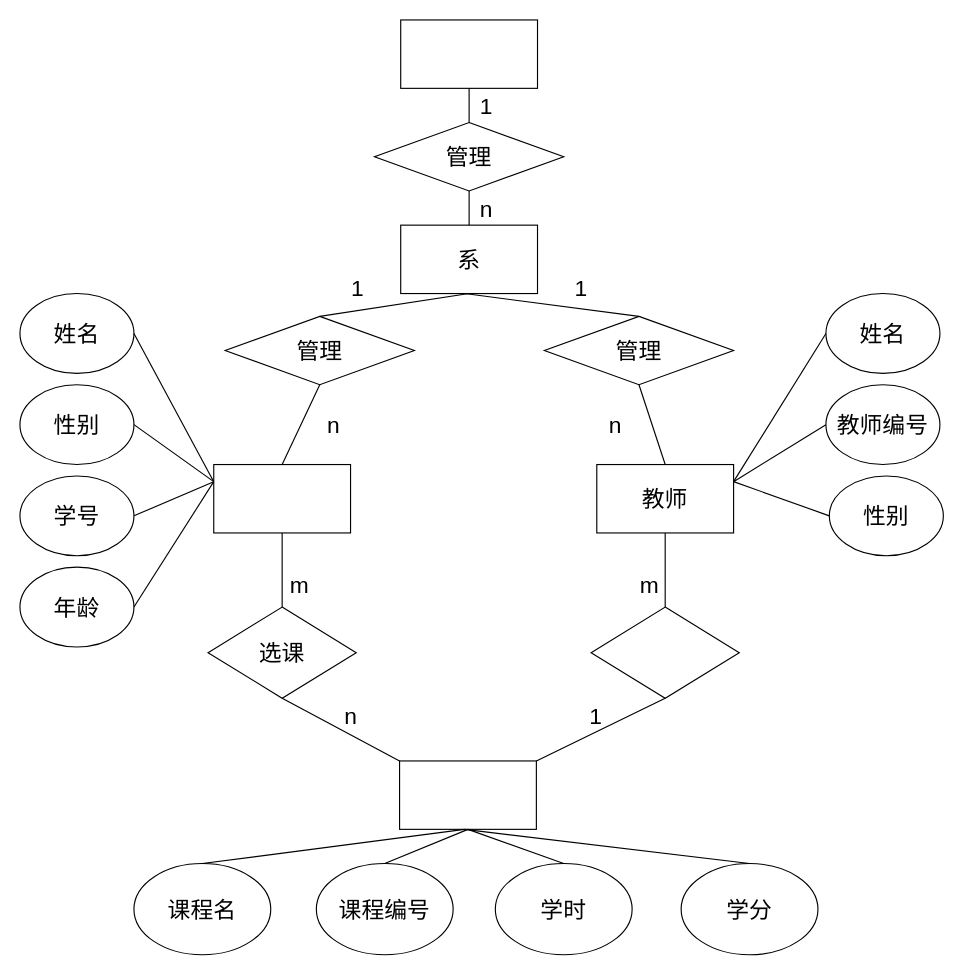
Some shapes in this 963 by 975 pixel diagram are drawn without their labels. The box of each missing label's shape, as (x1, y1, x2, y2) in pixels:
学校: (400, 19, 538, 88)
学生: (213, 463, 351, 533)
教授: (590, 606, 739, 698)
课程: (398, 760, 536, 829)
